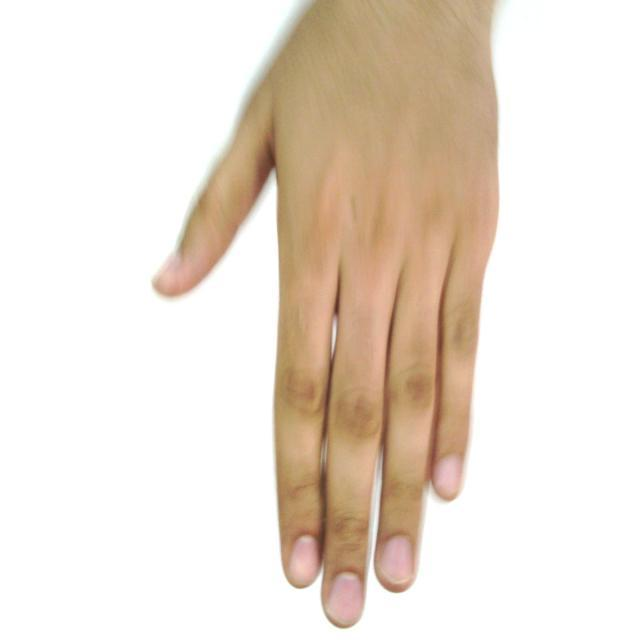Fingernail: (328, 573, 362, 626), (380, 536, 413, 582), (290, 536, 319, 585), (434, 456, 462, 498), (154, 254, 179, 282)
